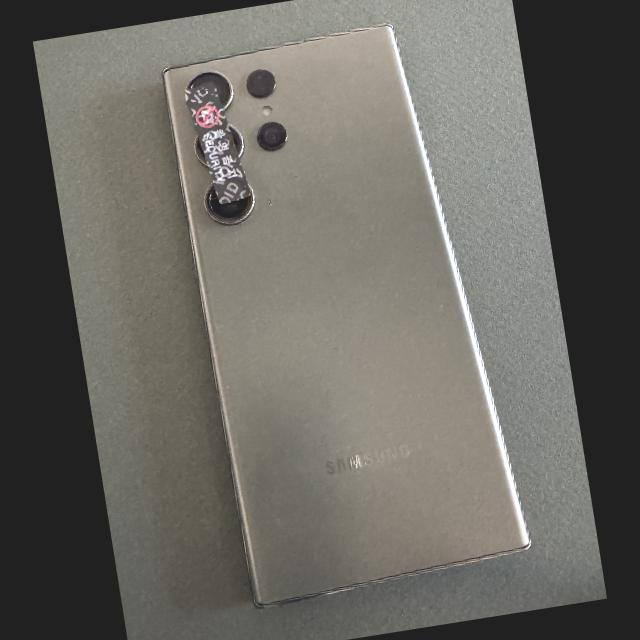lens: (206, 185, 253, 223), (189, 72, 232, 109), (248, 70, 275, 96), (230, 126, 242, 157)
phone: (164, 24, 529, 606)
sticker: (183, 83, 252, 205)
